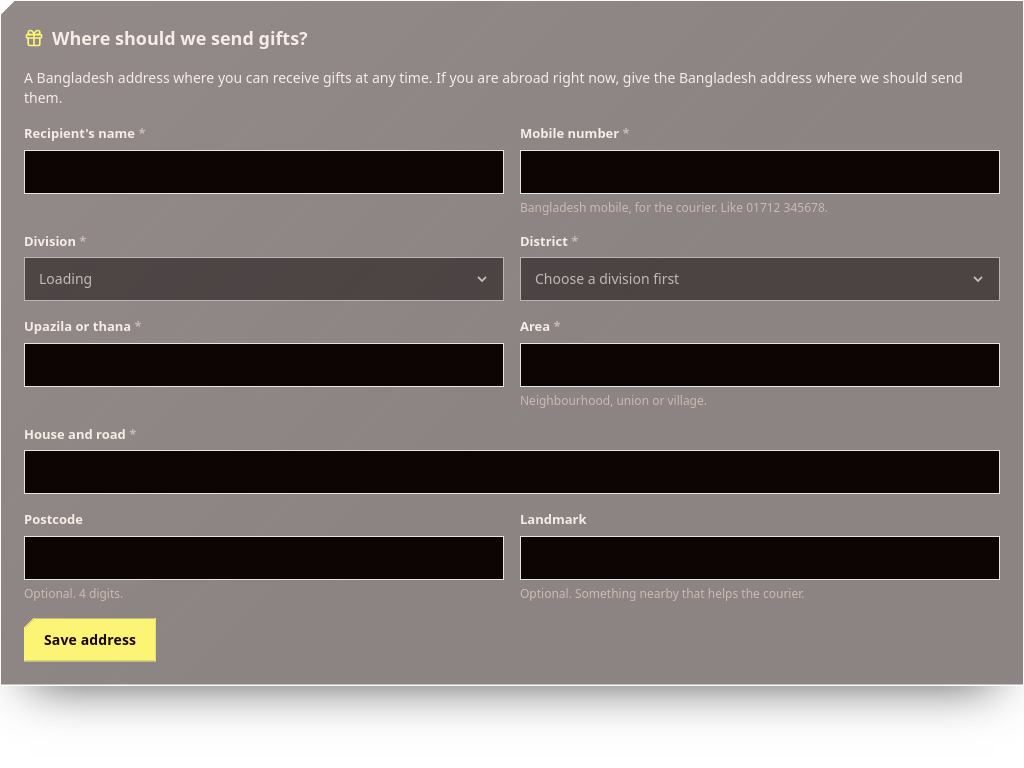
DeliveryAddressStep › asks for an address when there is none, and saving it confirms the order
This screenshot has width=1024, height=768.
Type "Nadia Rahman" into the field labelled "Recipient's name *". click: (264, 172)
box: 24,150 -> 504,194
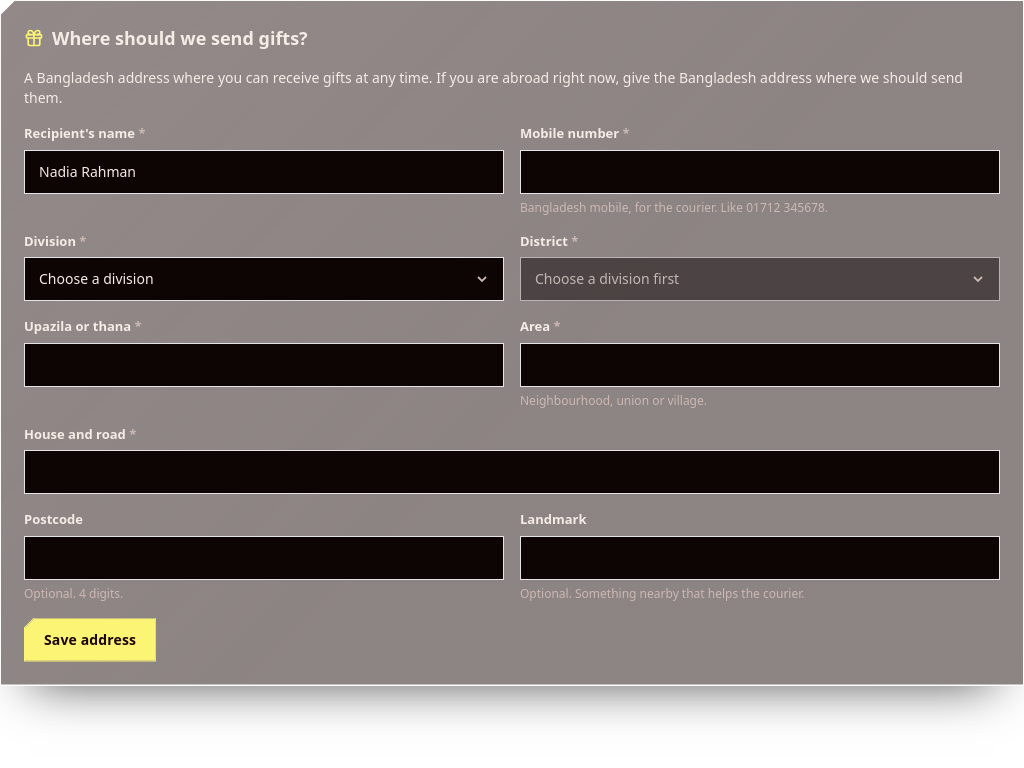
Type "01712 345678" into the field labelled "Mobile number *". click: (760, 172)
box: 520,150 -> 1000,194
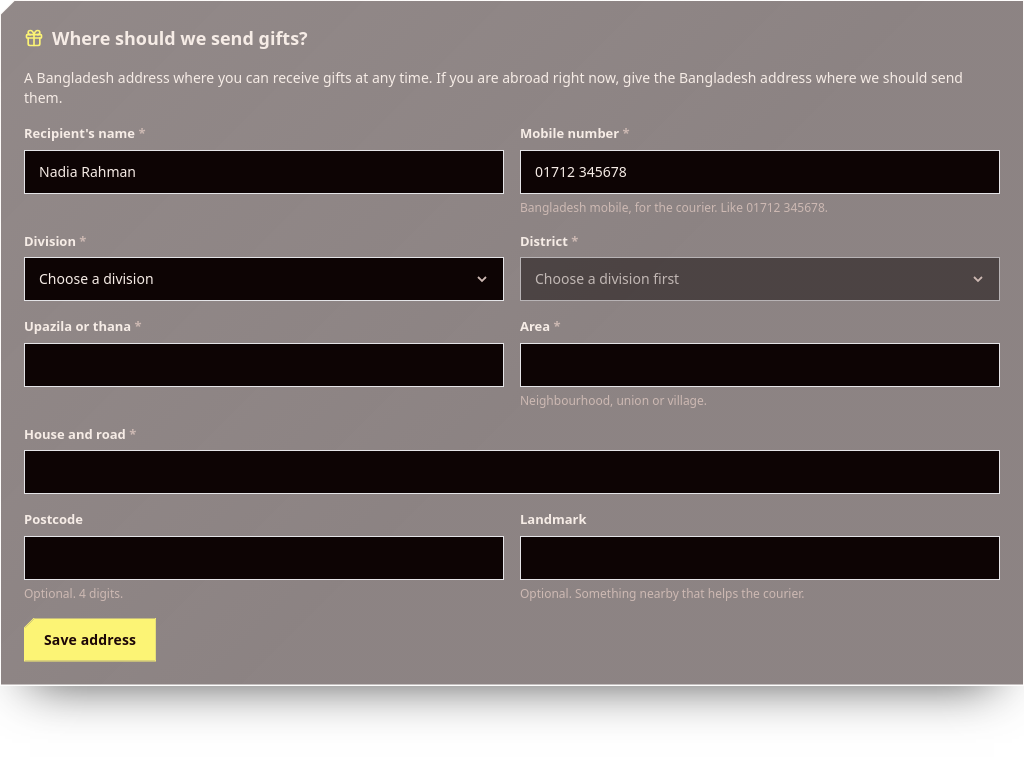
Expected: the dropdown labelled "District *" is disabled, 520,257 -> 1000,301
Expected: the dropdown labelled "Division *" is enabled
Select "Dhaka" in the dropdown labelled "Division *". click: (264, 279)
box: 24,257 -> 504,301
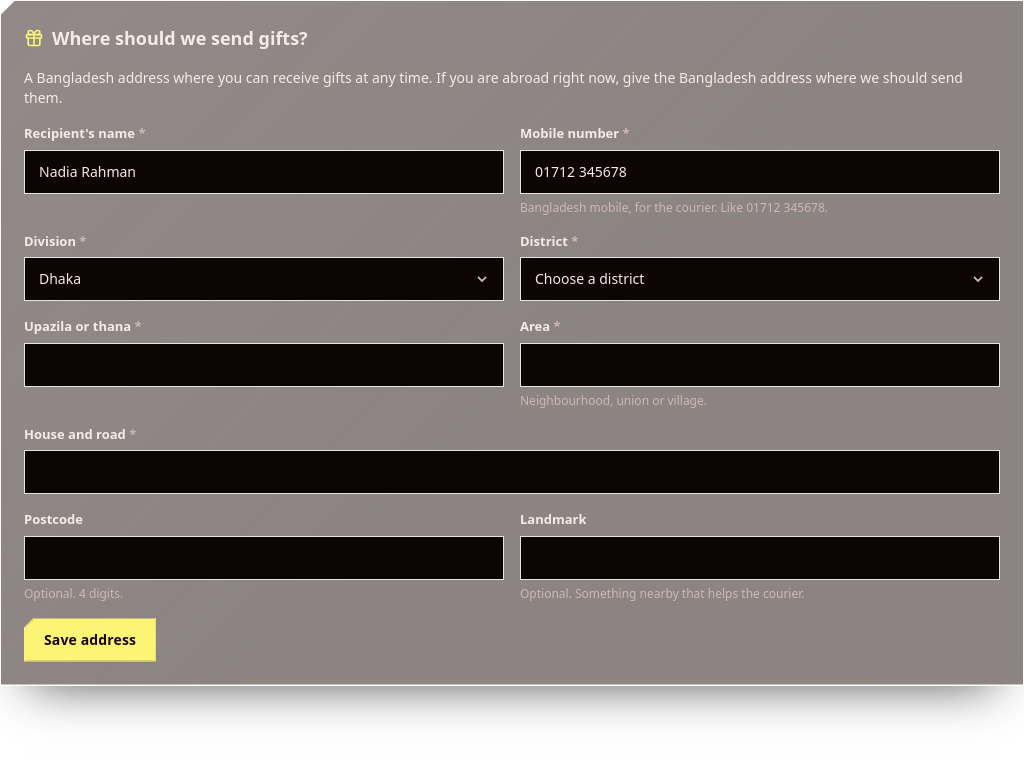
Select "Dhaka" in the dropdown labelled "District *". click: (760, 279)
box: 520,257 -> 1000,301
Type "Dhanmondi" into the field labelled "Upazila or thana *". click: (264, 364)
box: 24,342 -> 504,386
Type "Road 27" into the field labelled "Area *". click: (760, 364)
box: 520,342 -> 1000,386
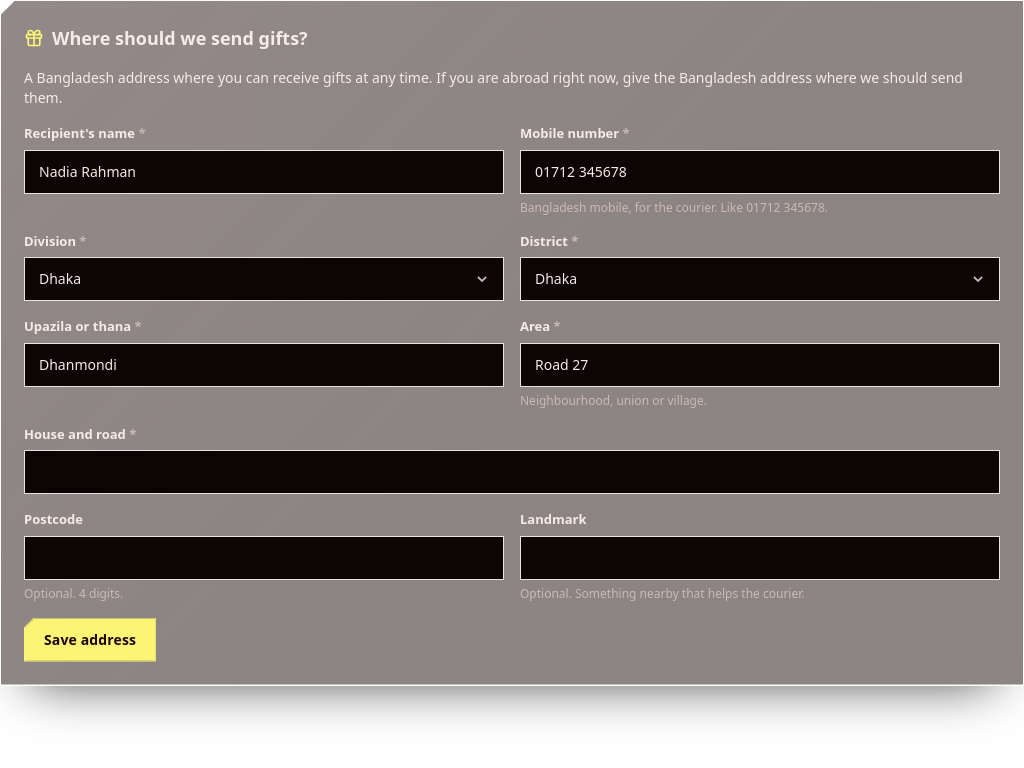
Type "House 12" into the field labelled "House and road *". click: (512, 472)
box: 24,450 -> 1000,494
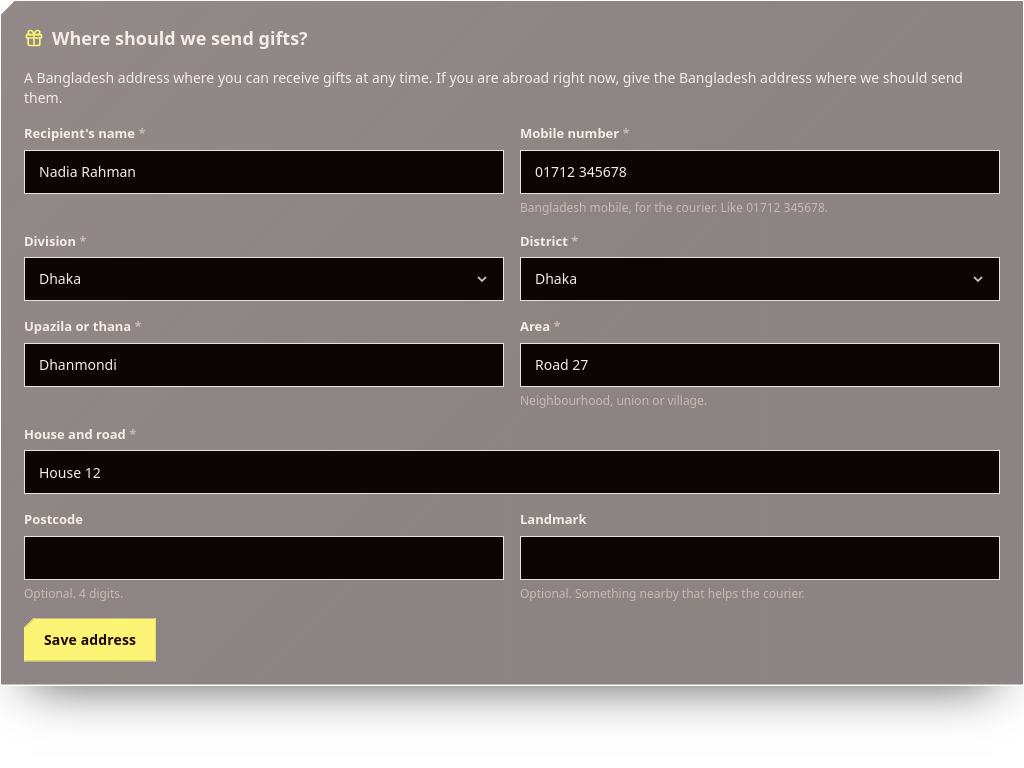
Click the button "Save address". click: click(90, 640)
box: 24,618 -> 156,662
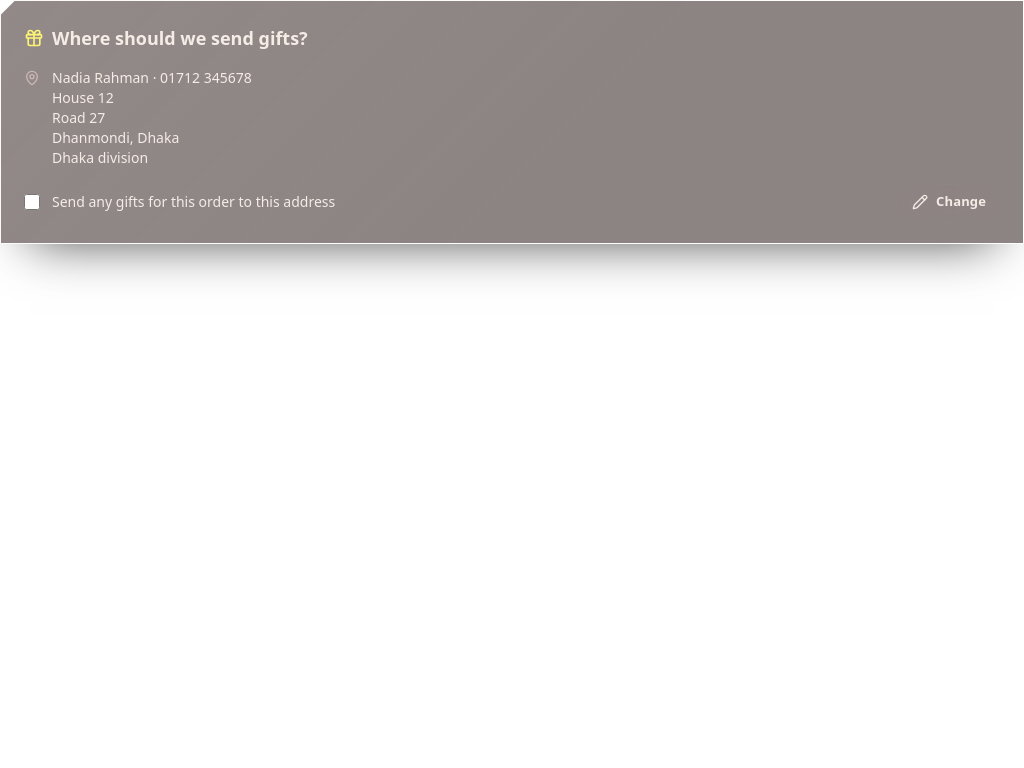
Expected: the text "Nadia Rahman · 01712 345678" is shown, 52,68 -> 252,88
